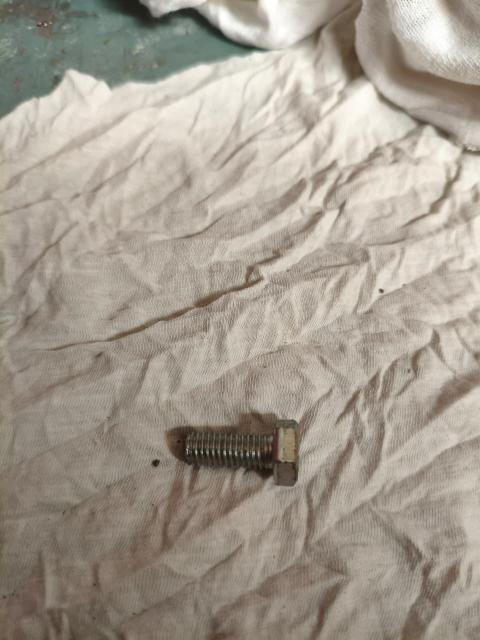Metal: (183, 413, 305, 488)
